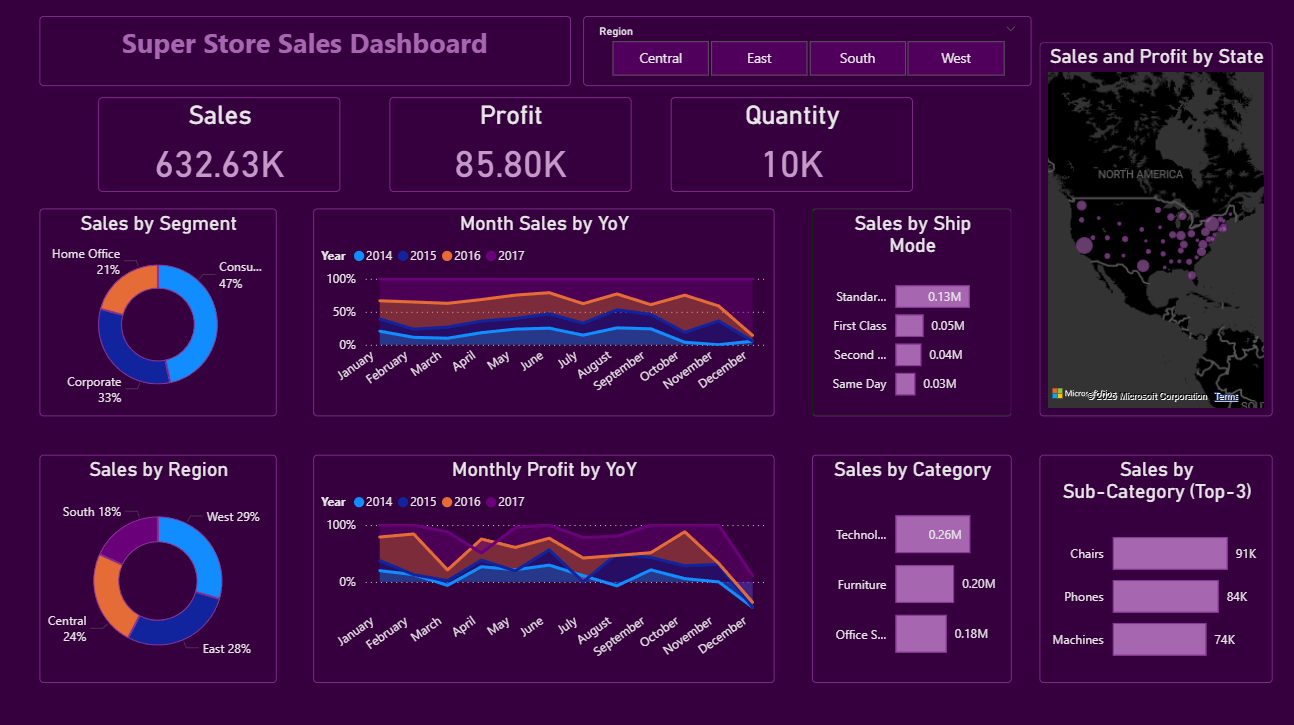

This screenshot's page, from the dashboard's own definition file:
{"tool":"powerbi","page":{"name":"Page 1","canvas":[1280,720],"ordinal":0},"visuals":[{"type":"clusteredBarChart","title":"Sales by Category","fields":{"Y":["Sum(superStore.Sales)"],"Category":["superStore.Category"]},"box":[800,450,196.2,223.8],"z":0},{"type":"clusteredBarChart","title":"Sales by Sub-Category (Top-3)","fields":{"Y":["Sum(superStore.Sales)"],"Category":["superStore.Sub-Category"]},"box":[1023.8,450,228.8,223.8],"z":1000},{"type":"clusteredBarChart","title":"Sales by Ship Mode","fields":{"Y":["Sum(superStore.Sales)"],"Category":["superStore.Ship Mode"]},"box":[800,208.8,196.2,203.8],"z":2000},{"type":"hundredPercentStackedAreaChart","title":"Month Sales by YoY","fields":{"Y":["Sum(superStore.Sales)"],"Series":["superStore.Order Date.Variation.Date Hierarchy.Year"],"Category":["superStore.Order Date.Variation.Date Hierarchy.Month","superStore.Order Date.Variation.Date Hierarchy.Day"]},"box":[310,208.8,452.5,203.8],"z":3000},{"type":"hundredPercentStackedAreaChart","title":"Monthly Profit by YoY","fields":{"Series":["superStore.Order Date.Variation.Date Hierarchy.Year"],"Category":["superStore.Order Date.Variation.Date Hierarchy.Month","superStore.Order Date.Variation.Date Hierarchy.Day"],"Y":["Sum(superStore.Profit)"]},"box":[310,450,452.5,223.8],"z":4000},{"type":"map","title":"Sales and Profit by State","fields":{"Category":["superStore.State"],"Size":["Sum(superStore.Sales)"]},"box":[1023.8,45,228.8,367.5],"z":5000},{"type":"donutChart","title":"Sales by Region","fields":{"Category":["superStore.Region"],"Y":["Sum(superStore.Sales)"]},"box":[41.2,450,232.5,223.8],"z":5001},{"type":"donutChart","title":"Sales by Segment","fields":{"Category":["superStore.Segment"],"Y":["Sum(superStore.Sales)"]},"box":[41.2,208.8,232.5,203.8],"z":5002},{"type":"slicer","fields":{"Values":["superStore.Region"]},"box":[575,20,440,68.8],"z":5003},{"type":"textbox","box":[41.2,20,521.2,68.8],"z":5004},{"type":"card","title":"Sales","fields":{"Values":["Sum(superStore.Sales)"]},"box":[100,100,237.5,92.5],"z":5005},{"type":"card","title":"Profit","fields":{"Values":["Sum(superStore.Profit)"]},"box":[385,100,237.5,92.5],"z":5006},{"type":"card","title":"Quantity","fields":{"Values":["Sum(superStore.Quantity)"]},"box":[661.2,100,237.5,92.5],"z":5007}]}

Visuals, with their boxes in screenshot pixels (x1, y1, x2, y2), scaled from the page's 1280x720 canvas onto the 1294x725 screenshot:
"Sales by Category" clusteredBarChart: <bbox>809, 453, 1007, 678</bbox>
"Sales by Sub-Category (Top-3)" clusteredBarChart: <bbox>1035, 453, 1266, 678</bbox>
"Sales by Ship Mode" clusteredBarChart: <bbox>809, 210, 1007, 415</bbox>
"Month Sales by YoY" hundredPercentStackedAreaChart: <bbox>313, 210, 771, 415</bbox>
"Monthly Profit by YoY" hundredPercentStackedAreaChart: <bbox>313, 453, 771, 678</bbox>
"Sales and Profit by State" map: <bbox>1035, 45, 1266, 415</bbox>
"Sales by Region" donutChart: <bbox>42, 453, 277, 678</bbox>
"Sales by Segment" donutChart: <bbox>42, 210, 277, 415</bbox>
slicer - superStore.Region: <bbox>581, 20, 1026, 89</bbox>
textbox: <bbox>42, 20, 569, 89</bbox>
"Sales" card: <bbox>101, 101, 341, 194</bbox>
"Profit" card: <bbox>389, 101, 629, 194</bbox>
"Quantity" card: <bbox>668, 101, 909, 194</bbox>
